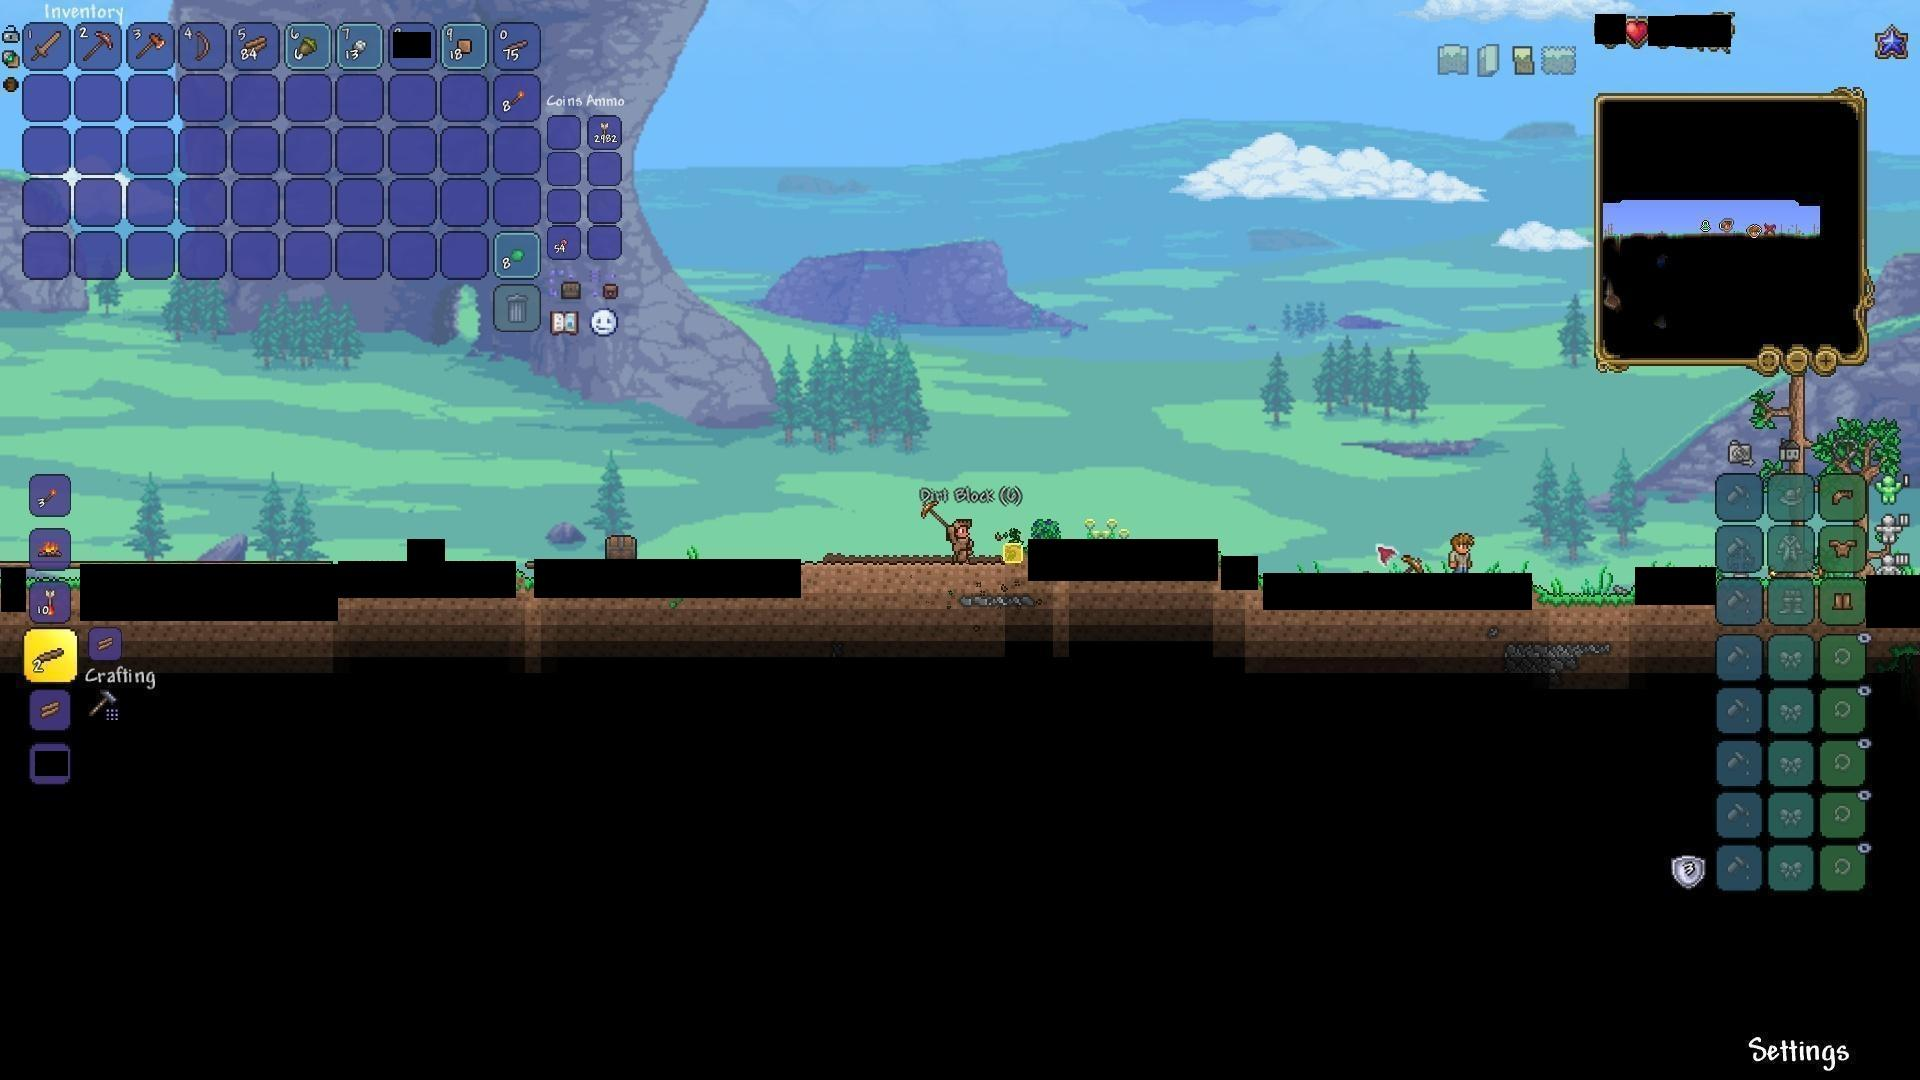breastplate: (1829, 538, 1859, 558)
dirt: (1530, 585, 1636, 615)
heart: (1625, 17, 1651, 46)
helmet: (1828, 485, 1857, 512)
legs: (1832, 588, 1855, 616)
wood: (88, 628, 120, 658), (36, 694, 65, 721), (243, 34, 270, 61)
